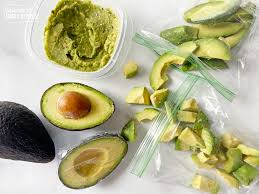aguacate: (1, 94, 57, 167)
